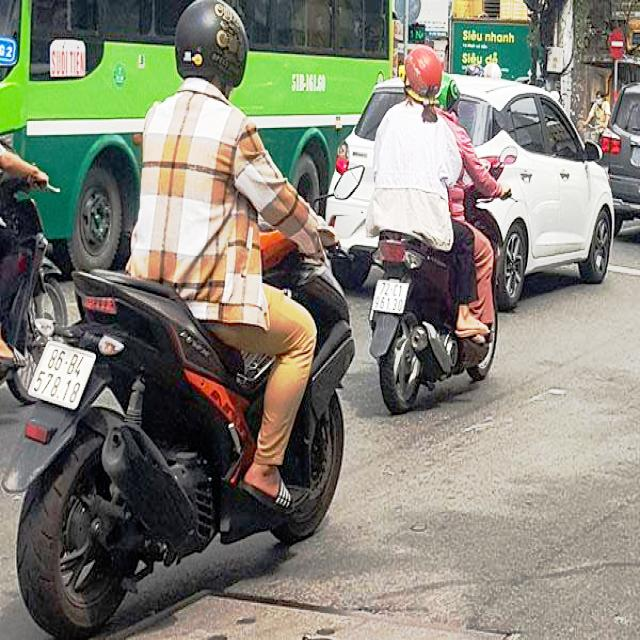license_plate: (28, 344, 96, 410), (373, 281, 411, 314)
